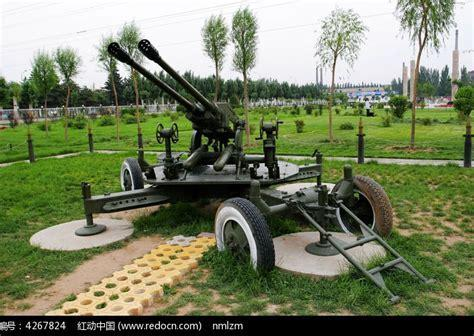MIL_SPG: (75, 40, 393, 271)
